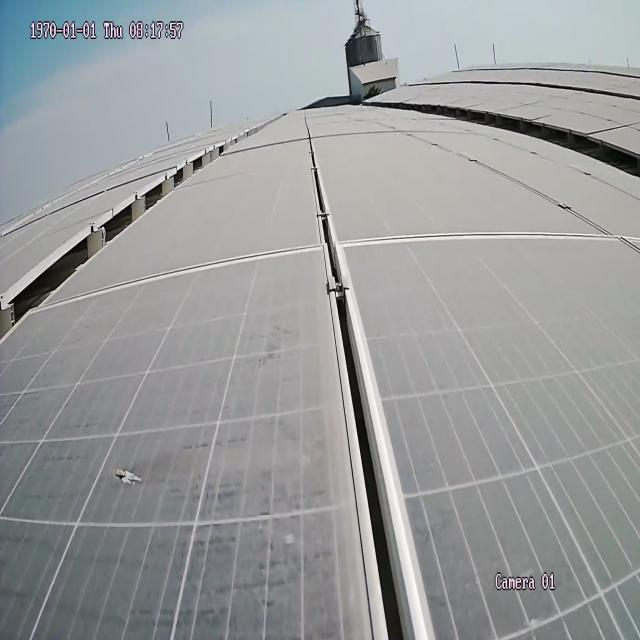interior panel: (301, 117, 436, 627), (56, 237, 311, 315), (463, 147, 611, 229), (347, 229, 636, 251)
outher panel: (1, 122, 261, 346), (373, 101, 638, 181)
